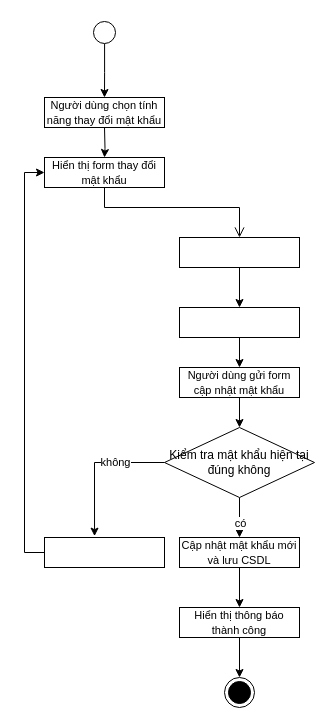
This 332x725 diagram has some shape labels left out. Here are the shapes that lost their labels. From the top down, the centre of each, then its label:
the point at 239,252: Người dùng nhập mật khẩu hiện tại
the point at 239,322: Người dùng nhập mật khẩu mới
the point at 104,552: Hiển thị thông báo thất bại
